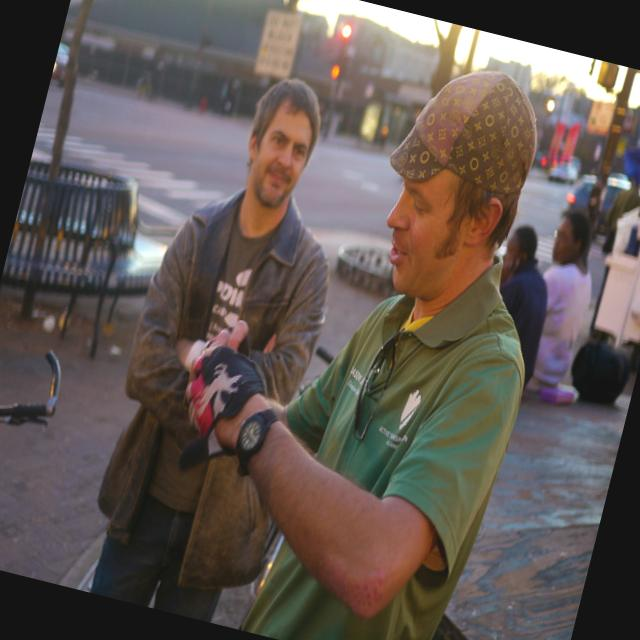Vehicle: (596, 171, 633, 236), (564, 174, 598, 220), (49, 34, 76, 88), (546, 157, 580, 186)
